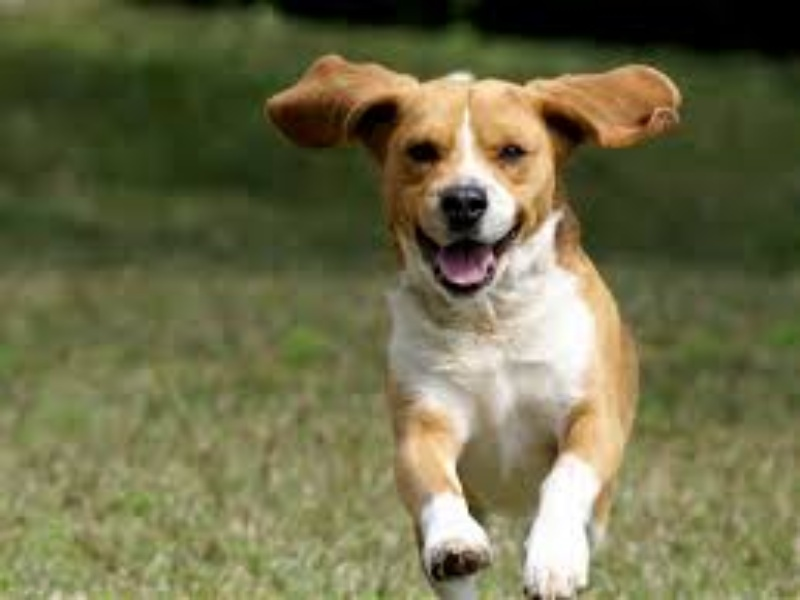dog: (257, 45, 703, 600)
